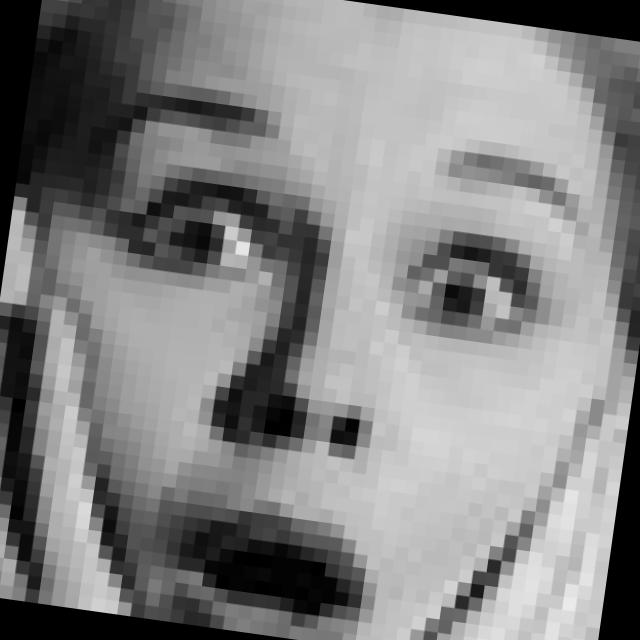surprise: (36, 67, 603, 640)
